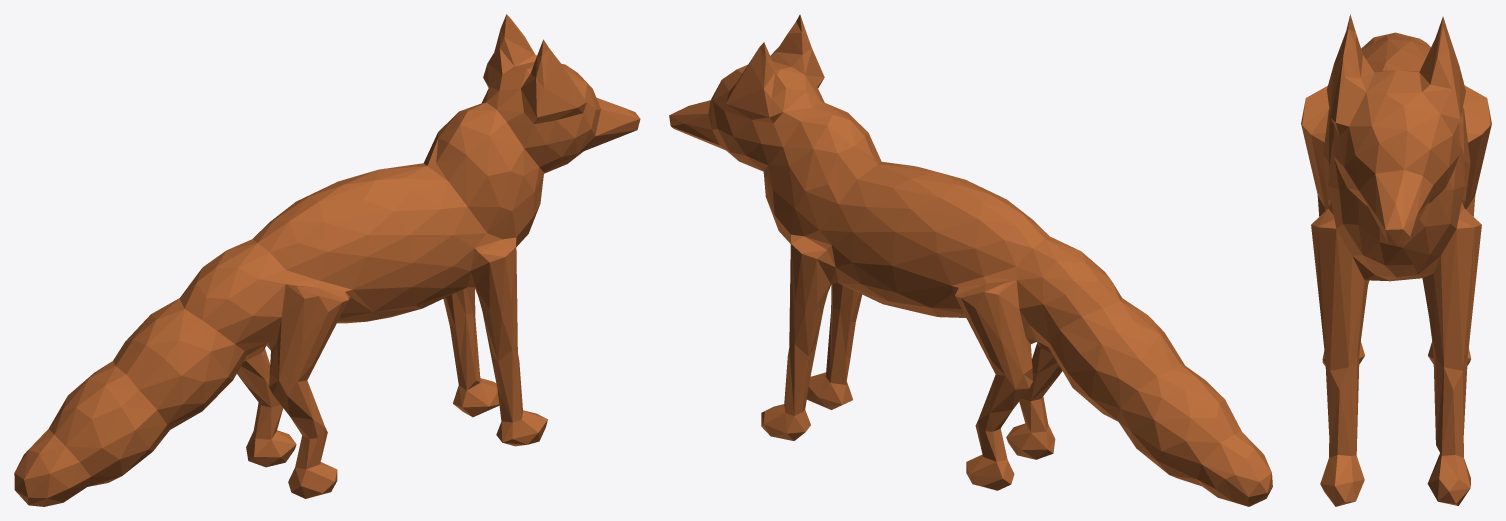
The model's file is NEW_RECOVERY_041_LOD1.glb.
3 views of the same model, side by side, from view 1: azimuth 30°, elevation 25°; view 2: azimuth 150°, elevation 25°; view 3: azimuth 270°, elevation 25° (orthographic). The views are drawn at different scales.
Parts seen in each view (by area): view 1: Fox_LOD1; view 2: Fox_LOD1; view 3: Fox_LOD1.
Part boxes in pixels (x1=…): Fox_LOD1: x1=14, y1=14, x2=640, y2=506; Fox_LOD1: x1=669, y1=14, x2=1272, y2=506; Fox_LOD1: x1=1301, y1=14, x2=1491, y2=506.
Size of the model in its own units: 3.4 by 2.1 by 0.7236.
